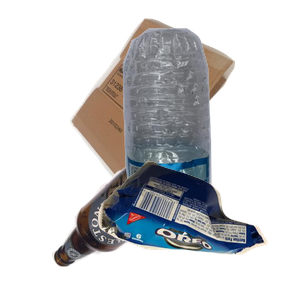cardboard: (67, 16, 295, 196)
glass: (49, 145, 229, 300)
plastic: (111, 26, 300, 206)
trash: (95, 158, 300, 300)
